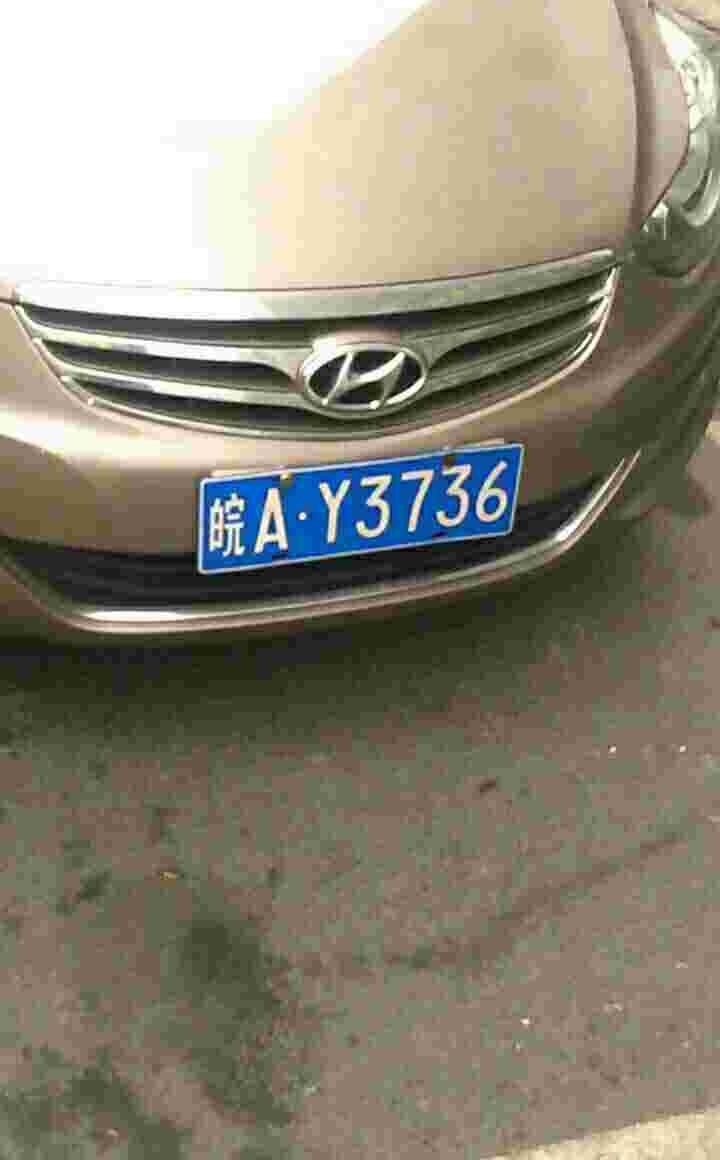license_plate: (204, 443, 521, 579)
